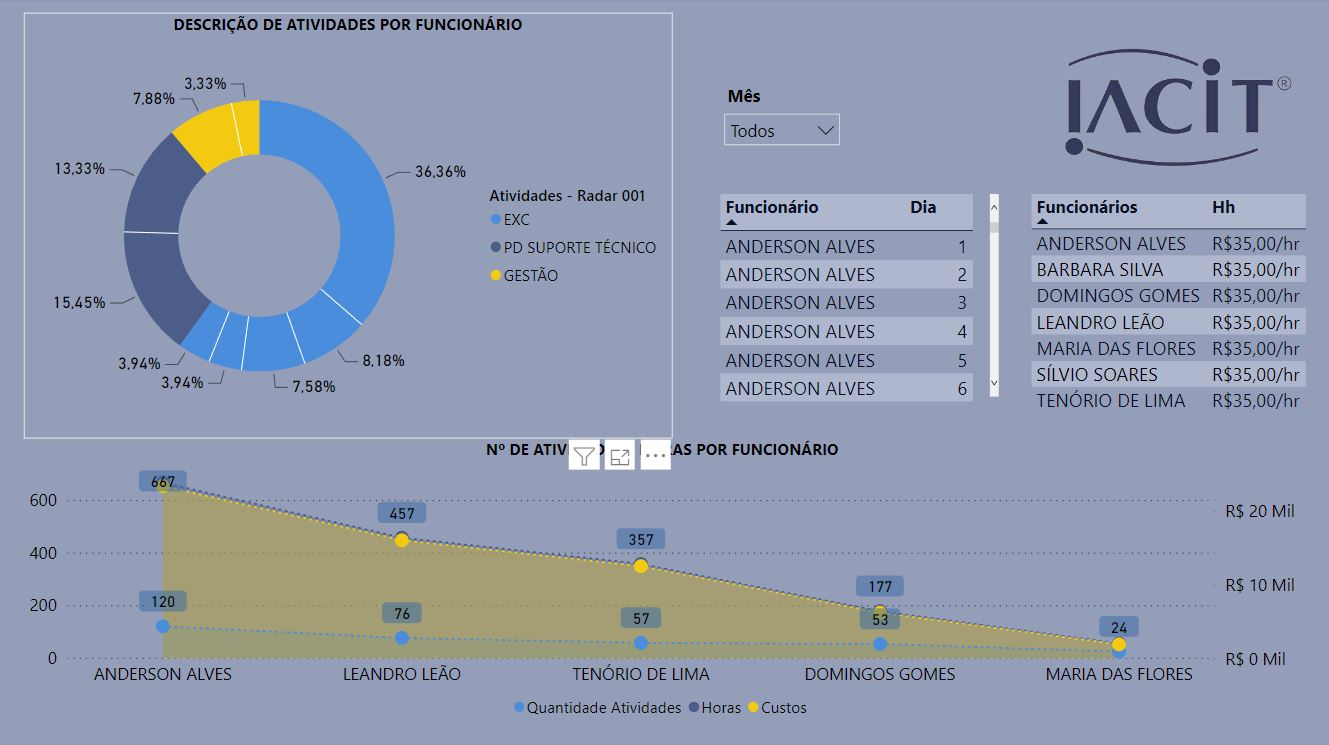

Layout of this report page (visuals, bound fields, positions):
{"tool":"powerbi","page":{"name":"DETALHAMENTO RADAR 001","canvas":[1280,720],"ordinal":1},"visuals":[{"type":"image","box":[988.9,0,291.2,209.4],"z":0},{"type":"areaChart","title":"Nº DE ATIVIDADES E HORAS POR FUNCIONÁRIO","fields":{"Category":["REL DIÁRIO - HRS.Nome do Usuário"],"Y":["CountNonNull(REL DIÁRIO - HRS.DESCRIÇÃO ATIVIDADES)","Sum(REL DIÁRIO - HRS.Horas)"],"Y2":["Sum(REL DIÁRIO - HRS.Custos)"]},"box":[35.9,420.1,1215.7,275.1],"z":1000},{"type":"tableEx","fields":{"Values":["REL DIÁRIO - HRS.Funcionário","REL DIÁRIO - HRS.Data.Variation.Hierarquia de datas.Dia"]},"box":[692.7,182.2,276.4,211.9],"z":2000},{"type":"slicer","fields":{"Values":["REL DIÁRIO - HRS.Data.Variation.Hierarquia de datas.Mês"]},"box":[692.7,78.1,130.1,80.6],"z":3000},{"type":"donutChart","title":"DESCRIÇÃO DE ATIVIDADES POR FUNCIONÁRIO","fields":{"Category":["REL DIÁRIO - HRS.DESCRIÇÃO ATIVIDADES"],"Y":["CountNonNull(REL DIÁRIO - HRS.DESCRIÇÃO ATIVIDADES)"],"Series":["REL DIÁRIO - HRS.Nome do Usuário"]},"box":[35.9,14.9,617.1,405.2],"z":4000},{"type":"tableEx","fields":{"Values":["Hh Assumido.Funcionários","Hh Assumido.Hh Assumido"]},"box":[988.9,182.2,273.9,224.3],"z":5000}]}

Visuals, with their boxes in screenshot pixels (x1, y1, x2, y2), scaled from the page's 1280x720 canvas onto the 1329x745 screenshot:
image: bbox=(1027, 0, 1328, 217)
"Nº DE ATIVIDADES E HORAS POR FUNCIONÁRIO" areaChart: bbox=(37, 435, 1300, 719)
tableEx - REL DIÁRIO - HRS.Funcionário x REL DIÁRIO - HRS.Data.Variation.Hierarquia de datas.Dia: bbox=(719, 189, 1006, 408)
slicer - REL DIÁRIO - HRS.Data.Variation.Hierarquia de datas.Mês: bbox=(719, 81, 854, 164)
"DESCRIÇÃO DE ATIVIDADES POR FUNCIONÁRIO" donutChart: bbox=(37, 15, 678, 435)
tableEx - Hh Assumido.Funcionários x Hh Assumido.Hh Assumido: bbox=(1027, 189, 1311, 421)
